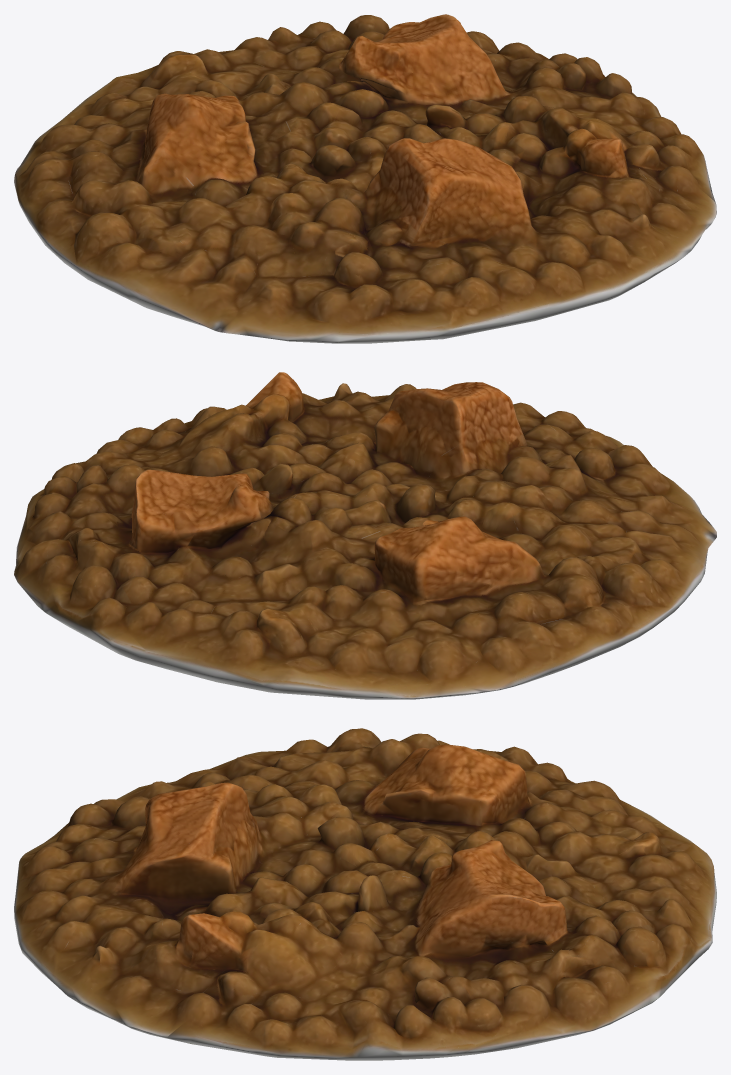
Rendered from LentejasConCerdo.fbx.
3 renders of one model, top to bottom at view 1: azimuth 30°, elevation 25°; view 2: azimuth 150°, elevation 25°; view 3: azimuth 270°, elevation 25°, orthographic. The views are drawn at different scales.
Parts seen in each view (by area): view 1: Mesh_0; view 2: Mesh_0; view 3: Mesh_0.
Part boxes in pixels (box(x1,y1,x2,y2)): Mesh_0: box(14, 14, 716, 343); Mesh_0: box(14, 372, 716, 699); Mesh_0: box(14, 728, 716, 1060).
Size of the model in its own units: 190 by 44.17 by 189.
Materials: 1 (1 with a texture image).
